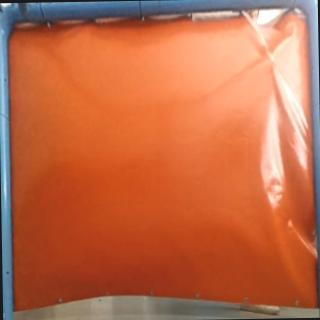Hit-hRxx: (264, 52, 280, 68)
